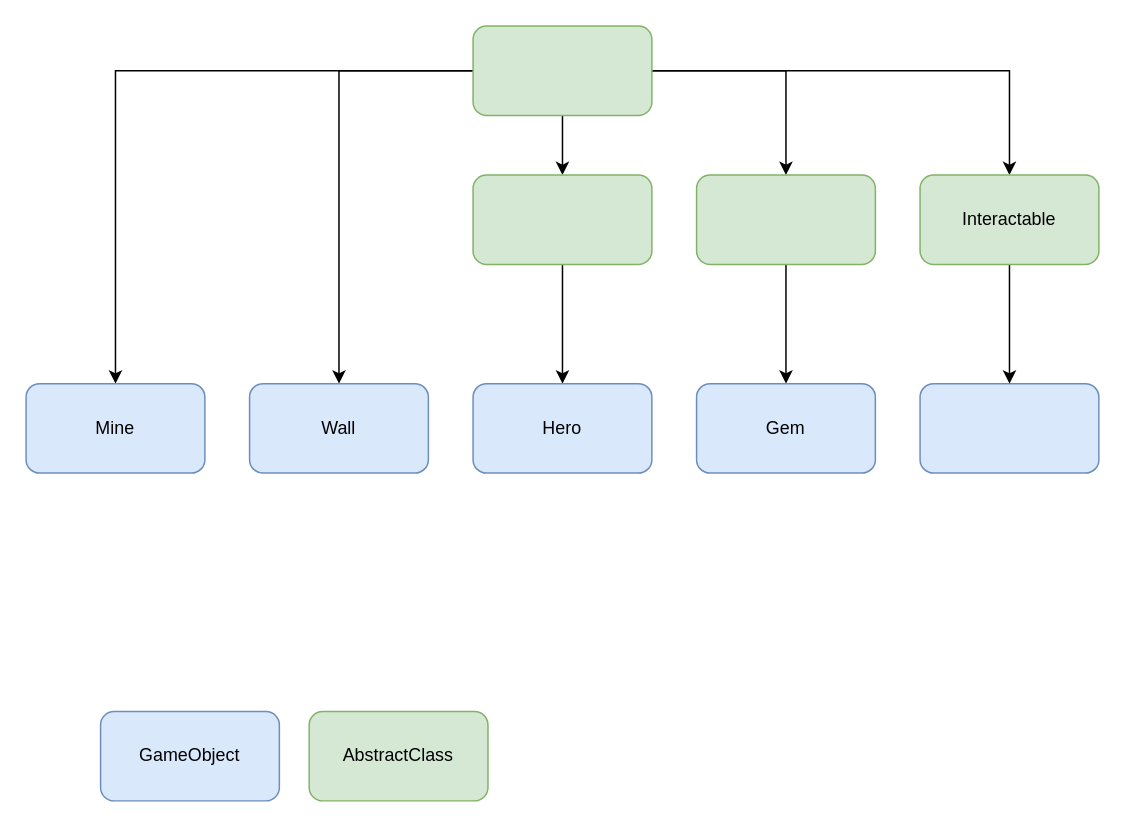
The diagram is 1125 pixels wide and 827 high, and some of its shapes have lost their labels. Each missing label, with the centre of its shape:
Collectable: (x=785, y=219)
Controllable: (x=562, y=219)
Door: (x=1009, y=427)
Entity: (x=562, y=70)
